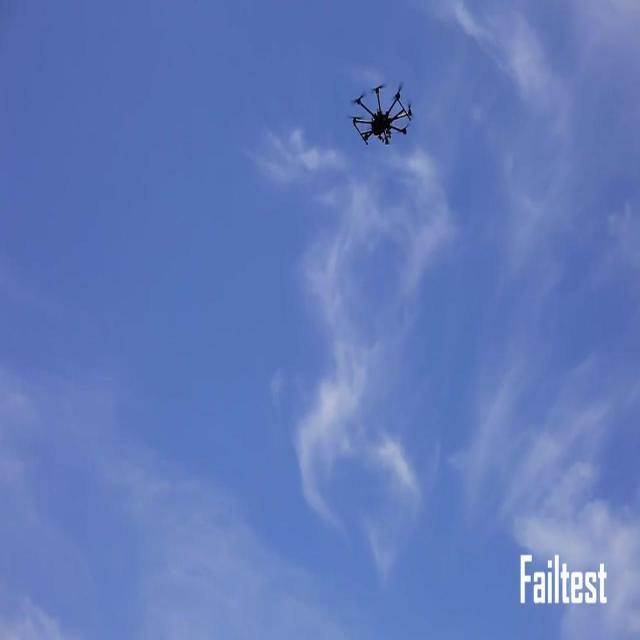UAV: (348, 83, 412, 145)
